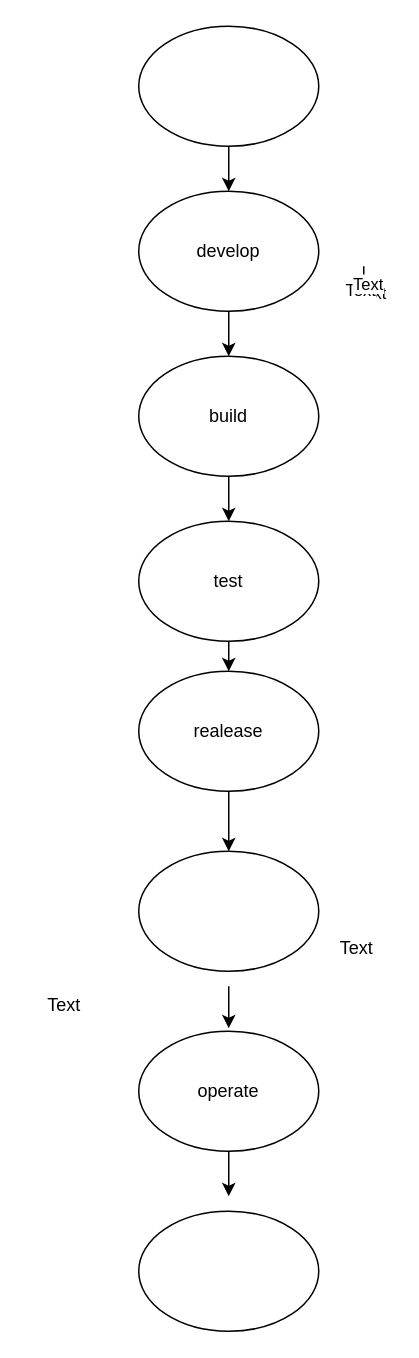
This 419x1358 diagram has some shape labels left out. The shapes that lost their labels are listed below. From the top down, each one's box as (x1, y1, x2, y2) in pixels, then its label:
(137, 25, 319, 146): plan
(137, 850, 319, 971): deploy
(137, 1210, 319, 1331): monitor
